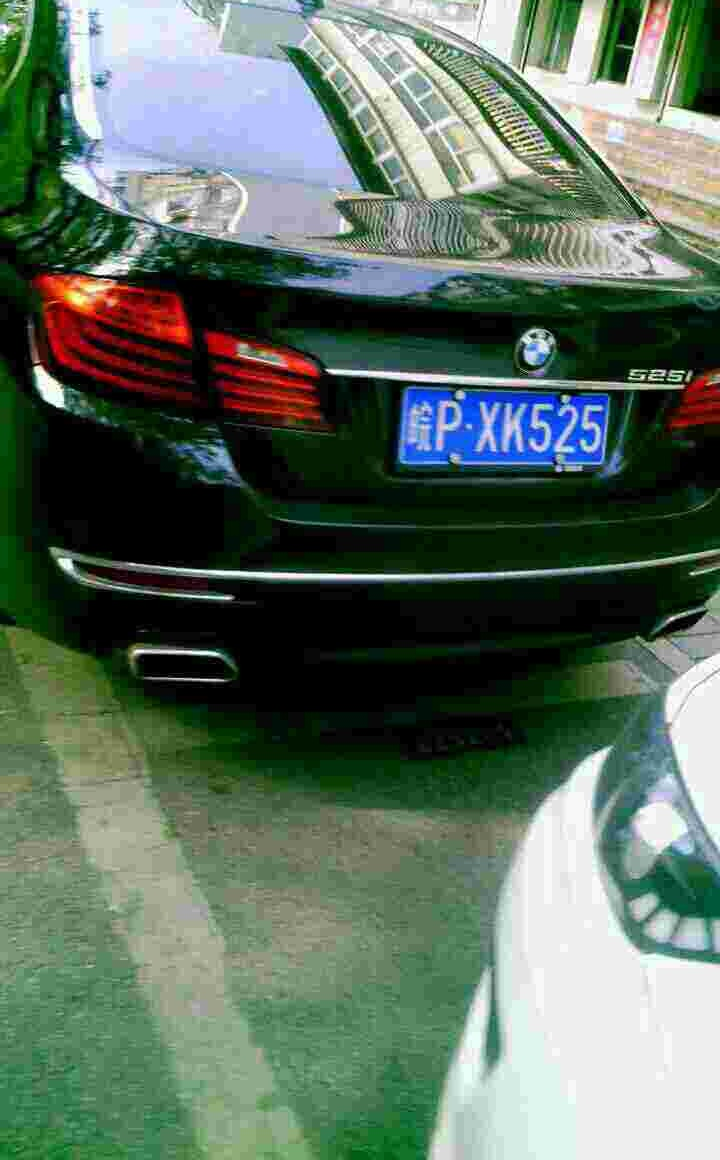license_plate: (400, 386, 619, 475)
